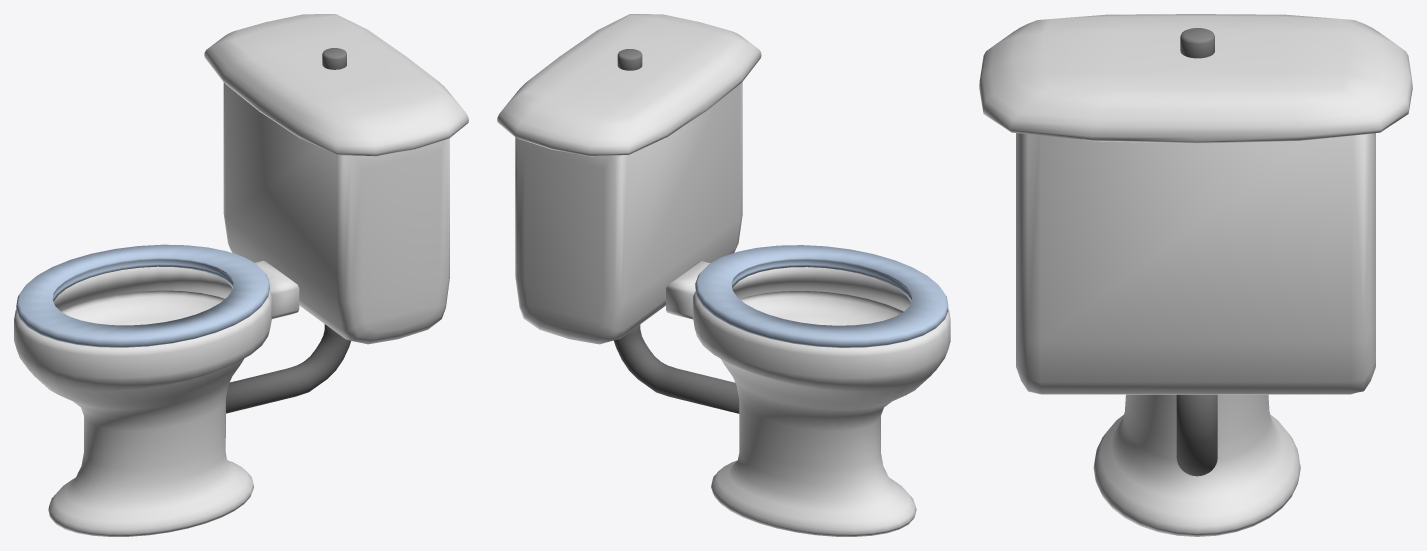
Rendered from klo.fbx.
The picture shows the model from 3 angles, left to right: view 1: azimuth 30°, elevation 25°; view 2: azimuth 150°, elevation 25°; view 3: azimuth 270°, elevation 25°; orthographic projection. The views are drawn at different scales.
Parts seen in each view (by area): view 1: Cube, Circle, Circle.001, Cylinder.001, Cylinder.002; view 2: Cube, Circle, Circle.001, Cylinder.001, Cylinder.002; view 3: Cube, Circle, Cylinder.001, Cylinder.
Part boxes in pixels (left/top/right/bottom): Cube: left=204, top=14, right=468, bottom=344; Circle: left=14, top=266, right=271, bottom=536; Circle.001: left=16, top=244, right=269, bottom=347; Cylinder.001: left=226, top=324, right=350, bottom=413; Cylinder.002: left=255, top=260, right=299, bottom=318; Cube: left=497, top=14, right=761, bottom=344; Circle: left=693, top=267, right=950, bottom=536; Circle.001: left=695, top=245, right=948, bottom=347; Cylinder.001: left=613, top=324, right=739, bottom=413; Cylinder.002: left=666, top=261, right=709, bottom=319; Cube: left=979, top=14, right=1412, bottom=394; Circle: left=1093, top=394, right=1300, bottom=536; Cylinder.001: left=1176, top=394, right=1217, bottom=476; Cylinder: left=1180, top=28, right=1214, bottom=58.
Bounding box in the file's own units: 674 × 672 × 468.
